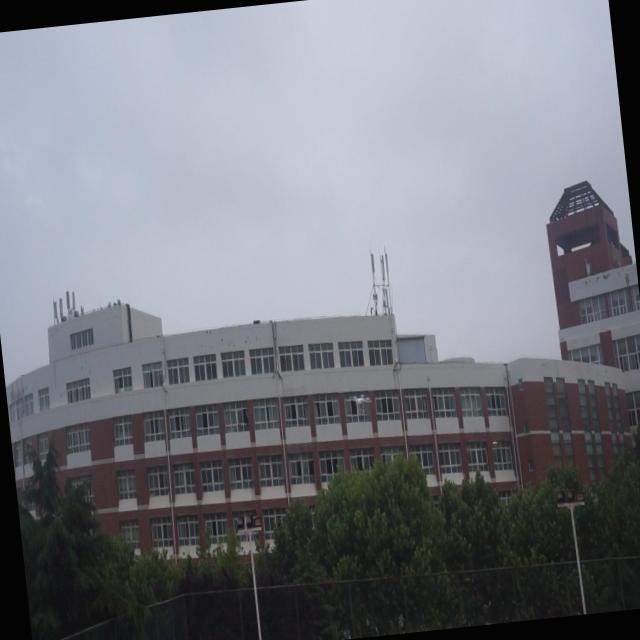drone: (346, 385, 373, 414)
